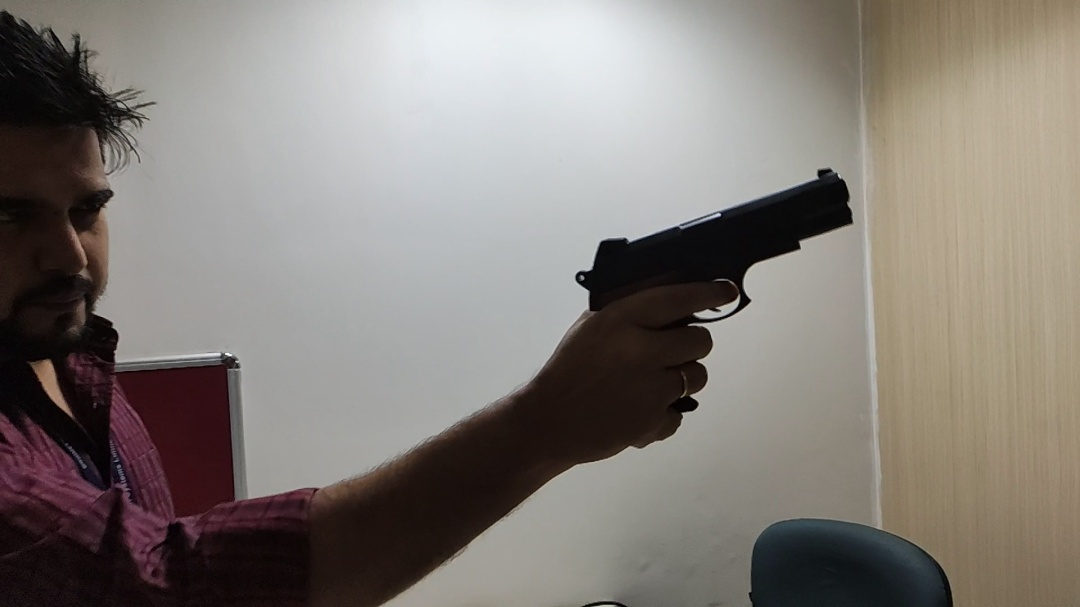gun: (572, 166, 857, 416)
